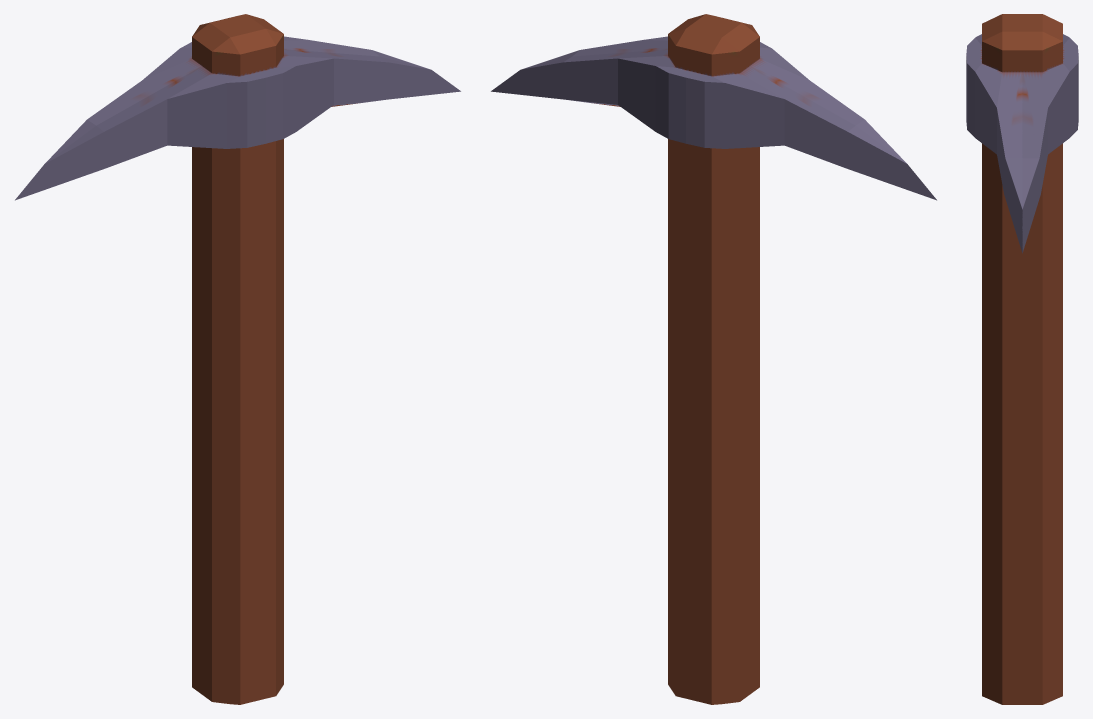
Rendered from pickaxe.fbx.
3 views of the same model, side by side, from view 1: azimuth 30°, elevation 25°; view 2: azimuth 150°, elevation 25°; view 3: azimuth 270°, elevation 25° (orthographic).
Parts seen in each view (by area): view 1: Pickaxe; view 2: Pickaxe; view 3: Pickaxe.
Boxes of the visible parts, x1,y1,x2,y2 form: Pickaxe: (15, 14, 460, 704); Pickaxe: (491, 14, 936, 704); Pickaxe: (966, 14, 1078, 704).
Size of the model in its own units: 145 by 207 by 31.38.
